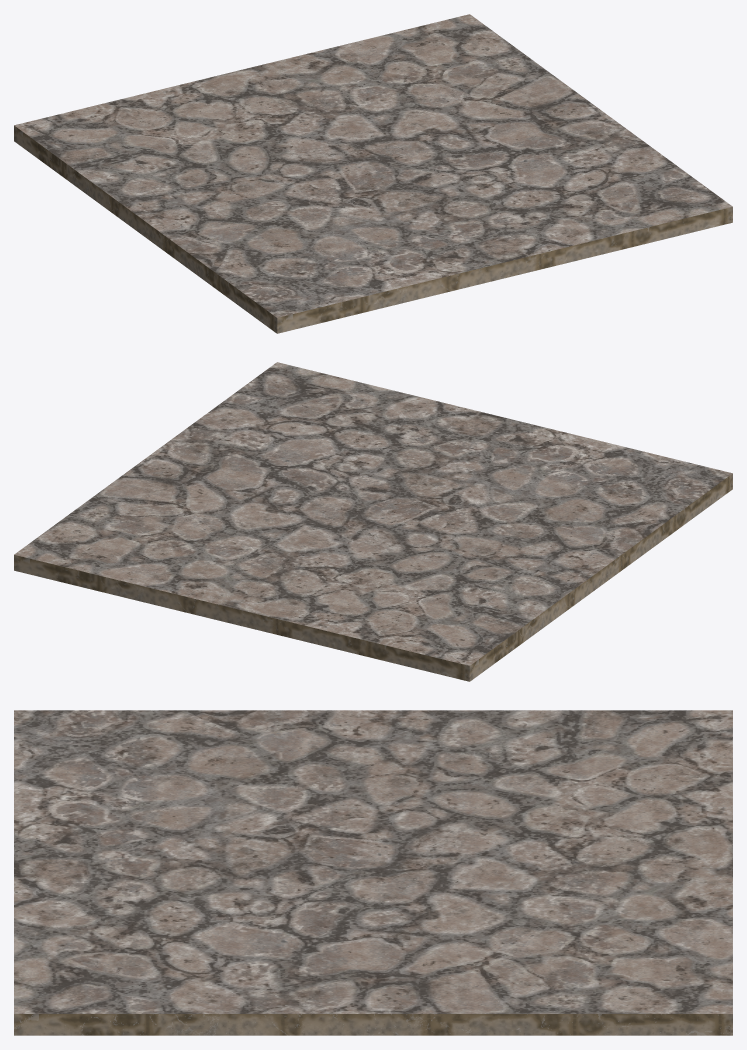
File: ModuleGround.fbx
The picture shows the model from 3 angles, top to bottom: view 1: azimuth 30°, elevation 25°; view 2: azimuth 150°, elevation 25°; view 3: azimuth 270°, elevation 25°; orthographic projection. The views are drawn at different scales.
Parts seen in each view (by area): view 1: ModuleGroundFloorTile, ModuleGroundFloorEdge; view 2: ModuleGroundFloorTile, ModuleGroundFloorEdge; view 3: ModuleGroundFloorTile, ModuleGroundFloorEdge.
Boxes of the visible parts, x1,y1,x2,y2 form: ModuleGroundFloorTile: (14, 14, 732, 317); ModuleGroundFloorEdge: (14, 125, 732, 333); ModuleGroundFloorTile: (14, 362, 732, 665); ModuleGroundFloorEdge: (14, 473, 732, 681); ModuleGroundFloorTile: (14, 710, 732, 1013); ModuleGroundFloorEdge: (14, 1014, 732, 1035).
Bounding box in the file's own units: 300 × 10 × 300.
